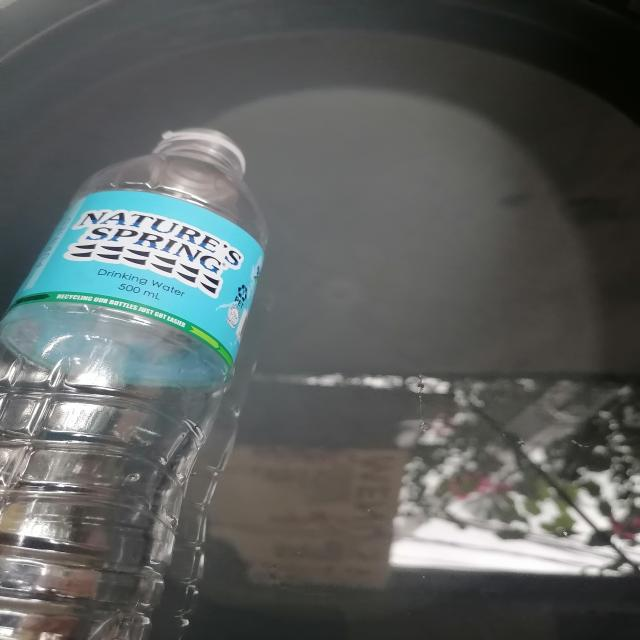Plastic Bottle: (0, 97, 301, 640)
